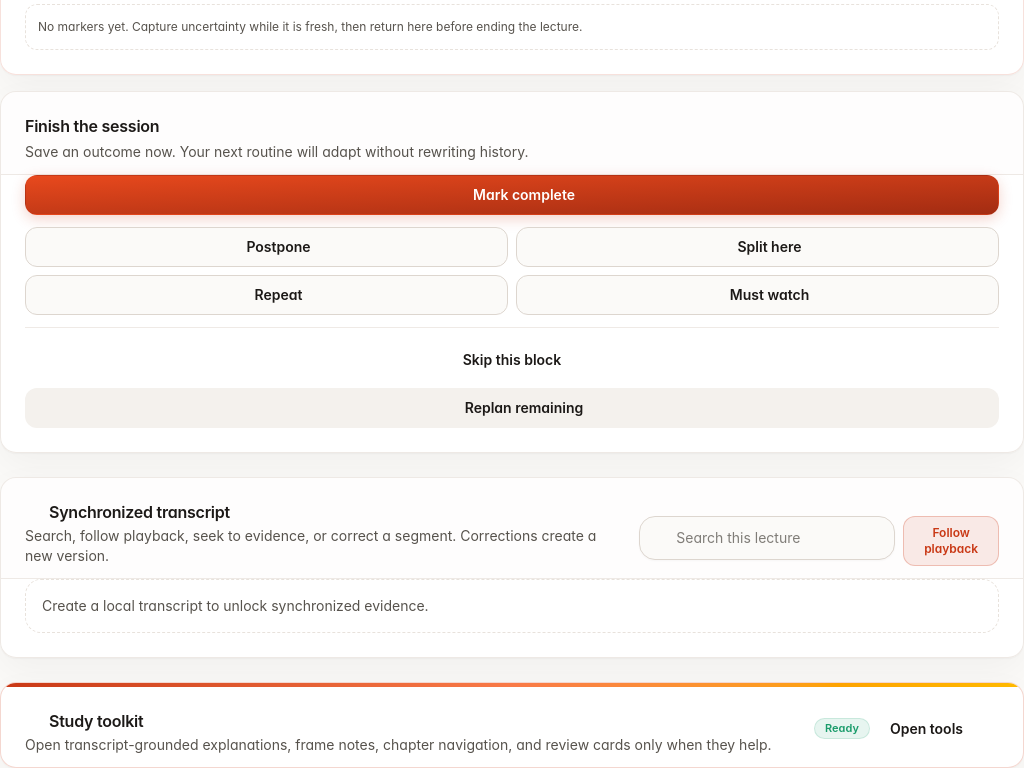
PlayerRoute › does not leave a stale study-set success beside a later frame-note error
(page scrolled)
Step 1. Click the button "Open tools" → point(938, 729), box [878,711,999,747]
(page scrolled)
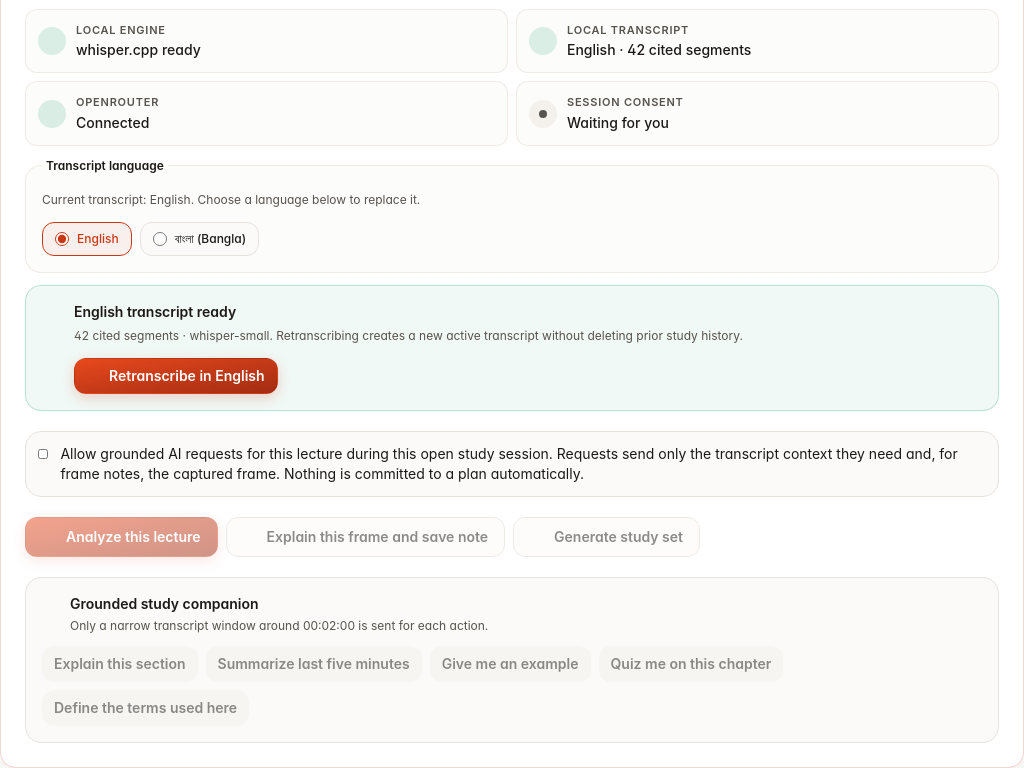
Result: the checkbox is enabled
Step 2. Click the checkbox → point(43, 454), box [38,446,48,462]
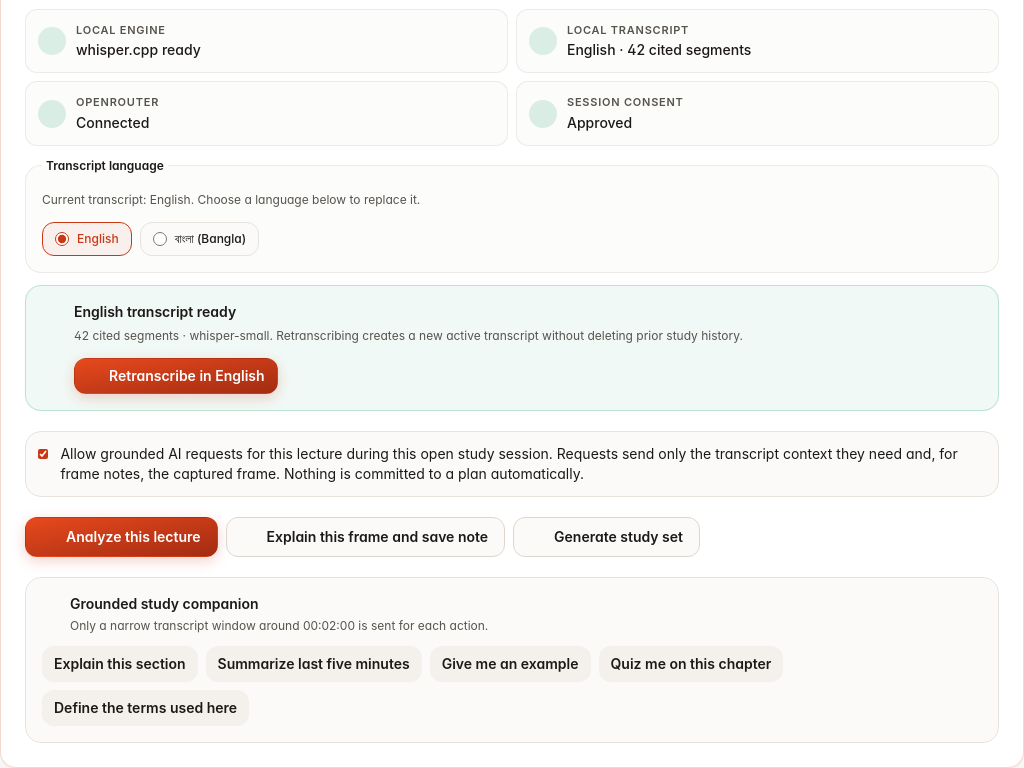
Step 3. Click the button "Generate study set" → point(607, 537), box [513,517,700,557]
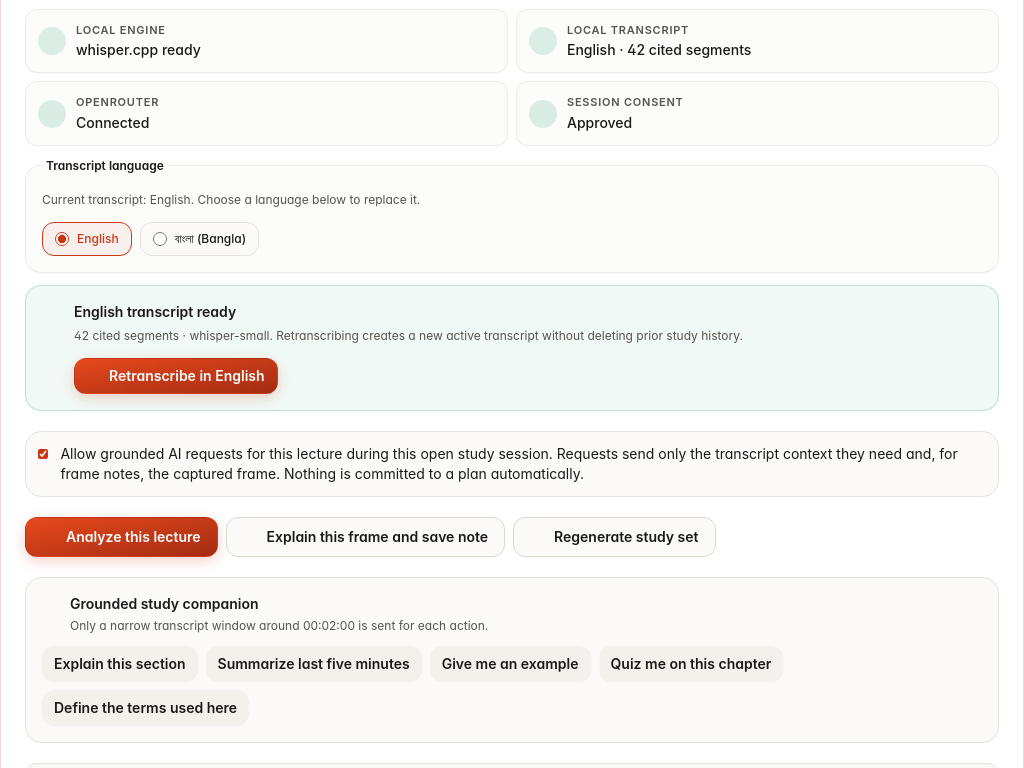
Step 4. Click the button "Explain this frame and save note" → point(365, 537), box [226,517,505,557]
(page scrolled)
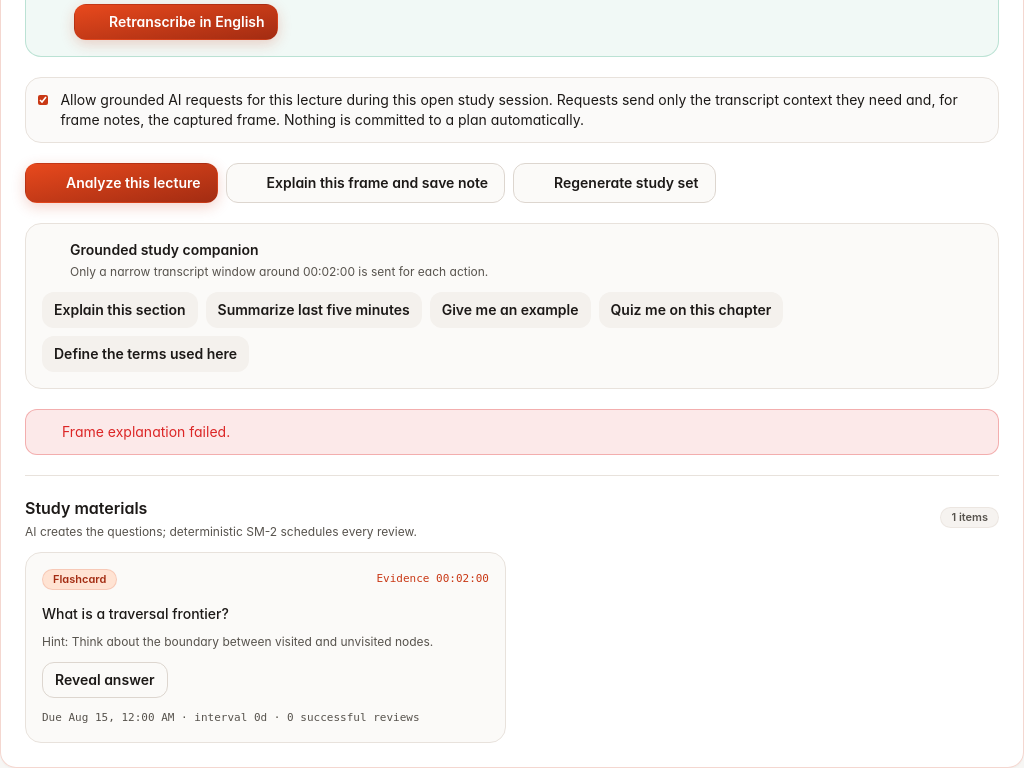
Result: the message reads "Frame explanation failed." at [62,423,230,440]
